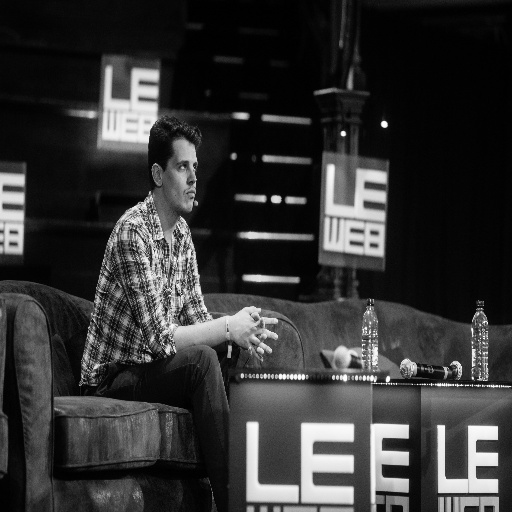hand: (240, 310, 267, 356)
